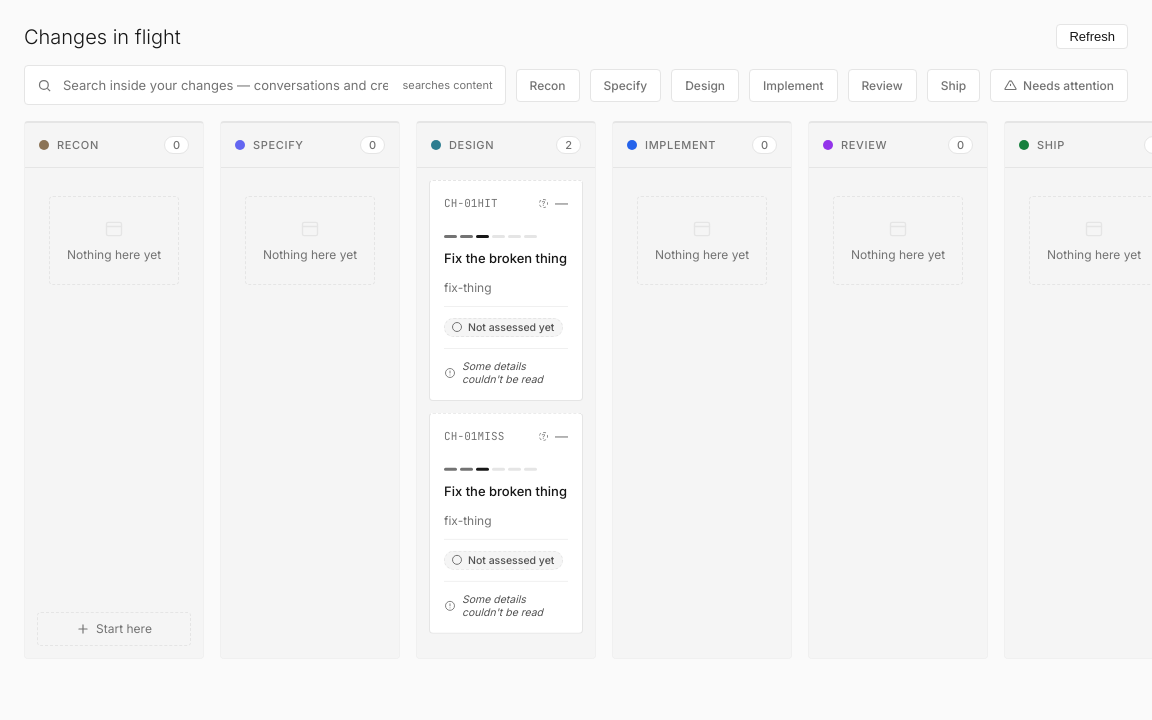
Test case: Board wiring — the toolbar narrows the SAME board (ADR-005) › typing a term narrows the SAME board to the matching changes (FR-10) — no separate results screen
Expected: the text "CH-01HIT" is shown, [444, 196, 498, 210]
Replace the text in the search field with "marshmallow". click: [227, 85]
box: [61, 76, 394, 94]
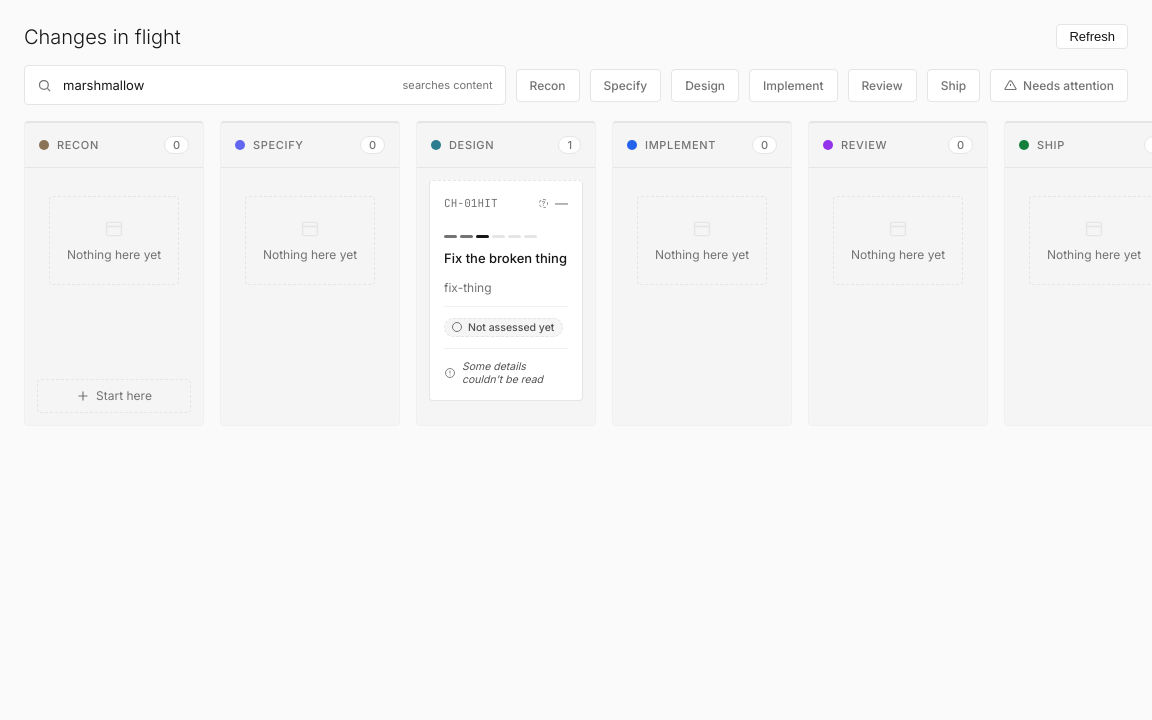
Expected: the text "CH-01HIT" is shown, [444, 196, 498, 210]
Now the link "CH-01MISS" is gone
